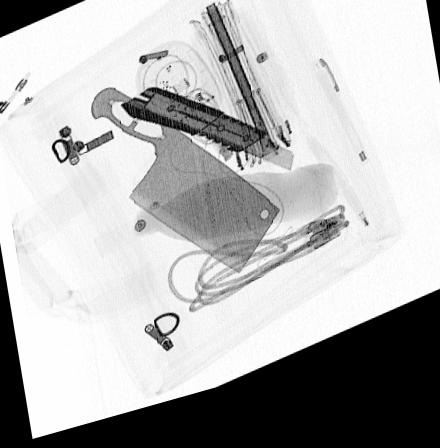Knife: (91, 91, 281, 286), (120, 93, 296, 186)
